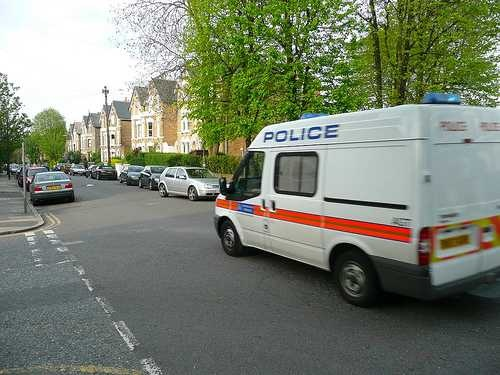Police Van: (210, 107, 500, 280)
